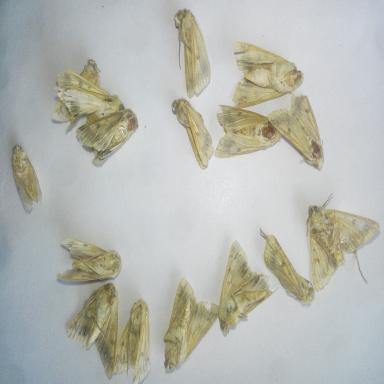abw: (296, 190, 382, 294), (211, 238, 283, 338), (160, 274, 224, 380), (231, 34, 308, 119), (61, 277, 121, 382), (256, 217, 319, 311), (266, 90, 327, 179), (71, 104, 144, 172), (52, 61, 129, 124), (168, 4, 217, 101), (211, 98, 284, 161), (52, 229, 127, 289), (107, 290, 153, 382), (168, 93, 216, 176), (5, 140, 48, 220)
